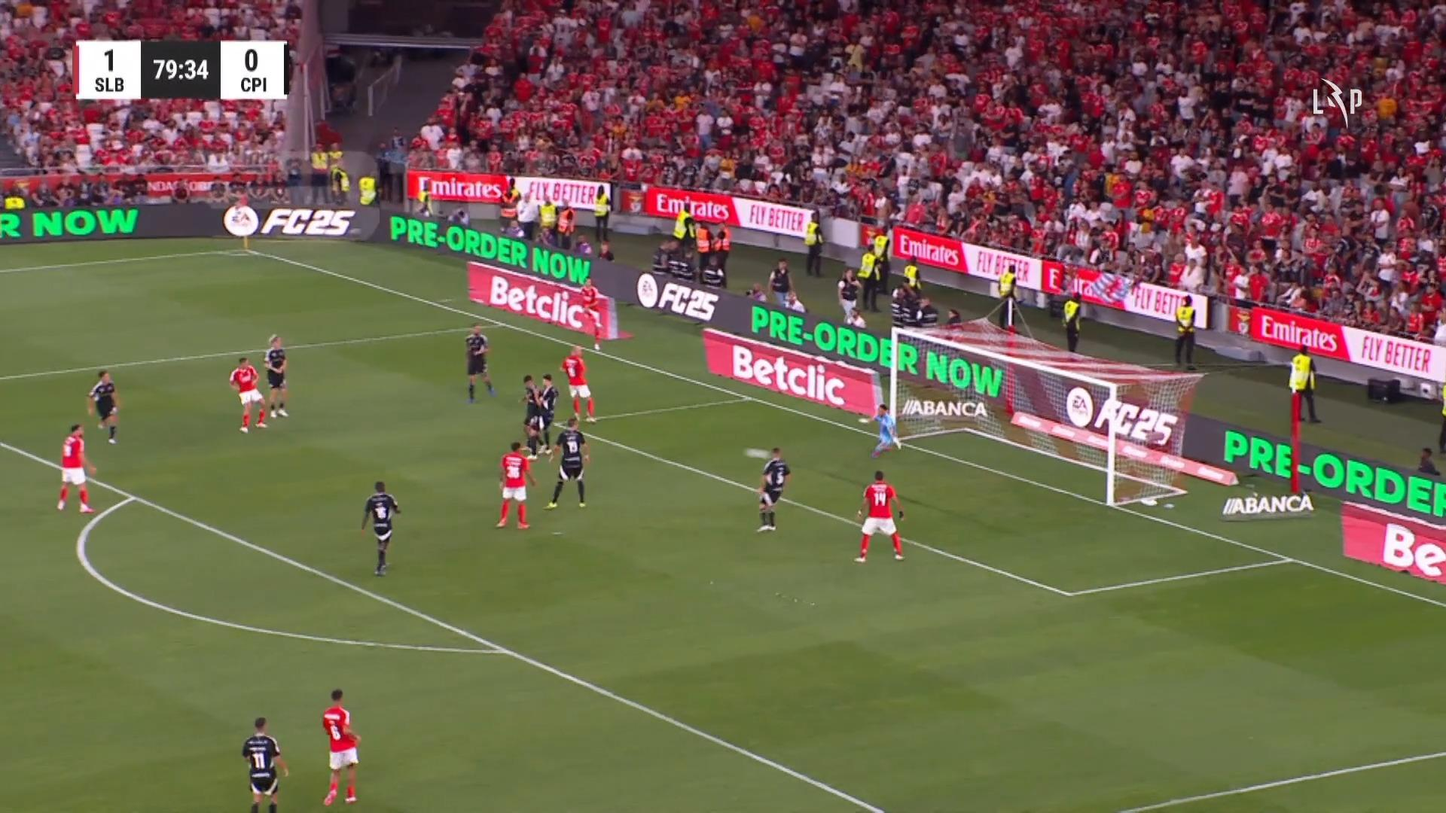ball: (858, 416, 868, 423)
goalkeeper: (858, 403, 901, 458)
player: (853, 469, 905, 562), (241, 715, 289, 811), (322, 687, 361, 805), (543, 416, 590, 509), (359, 480, 401, 576), (56, 423, 97, 513), (494, 440, 535, 529), (228, 355, 267, 433), (755, 446, 790, 531), (560, 345, 596, 422), (463, 323, 496, 403), (87, 369, 120, 444), (520, 374, 547, 460), (263, 333, 289, 418), (535, 373, 559, 451), (580, 276, 604, 350)
